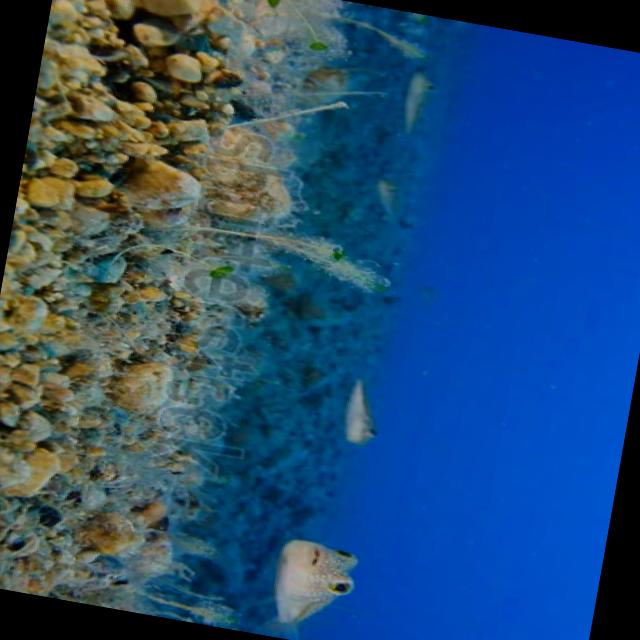Balon Baligi: (263, 532, 365, 635), (329, 375, 393, 447), (393, 64, 443, 138)
